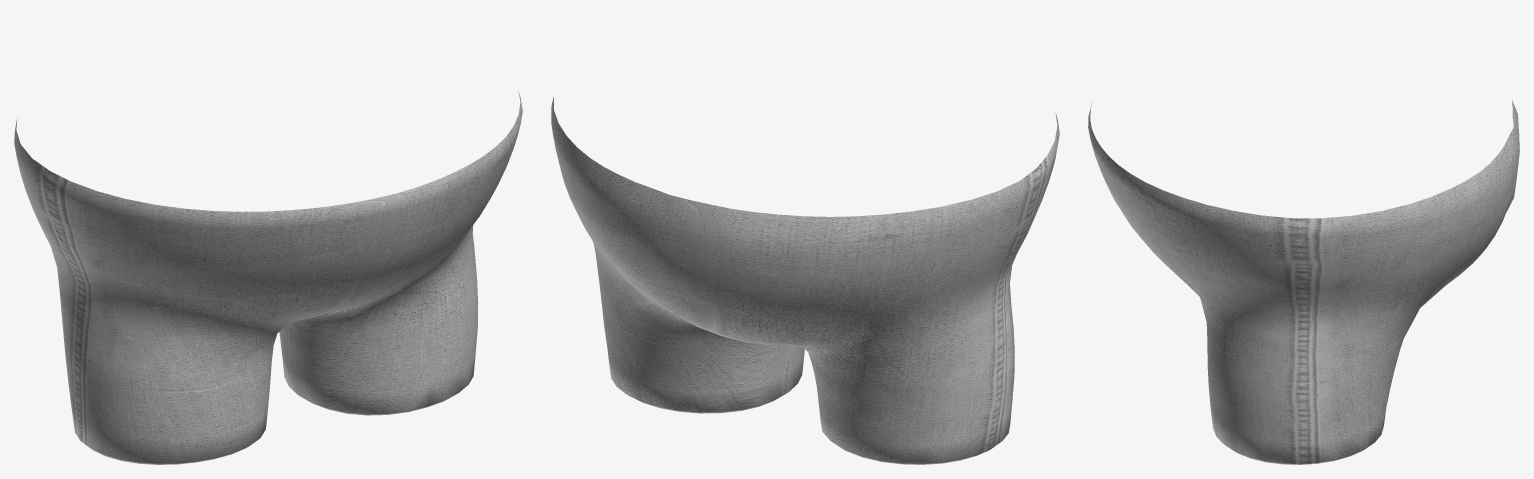
Rendered from DANIEL_HB.gltf.
3 renders of one model, left to right at view 1: azimuth 30°, elevation 25°; view 2: azimuth 150°, elevation 25°; view 3: azimuth 270°, elevation 25°, orthographic. The views are drawn at different scales.
Visible parts, largest first — view 1: DANIEL_HB; view 2: DANIEL_HB; view 3: DANIEL_HB.
Boxes of the visible parts, x1=… form: DANIEL_HB: x1=14, y1=91, x2=522, y2=464; DANIEL_HB: x1=551, y1=97, x2=1059, y2=464; DANIEL_HB: x1=1088, y1=100, x2=1519, y2=464.
Size of the model in its own units: 205 by 124 by 182.
1 material, 1 textured.
